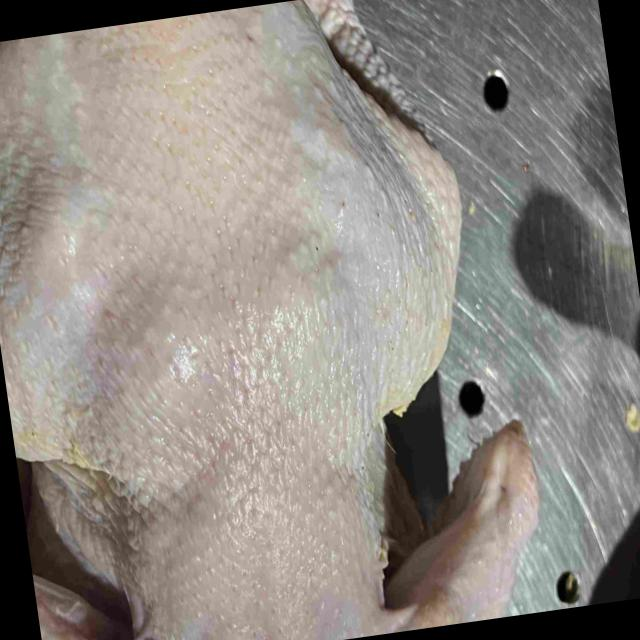back: (0, 2, 399, 640)
leg: (296, 0, 465, 405), (0, 122, 79, 460)
wing: (378, 420, 533, 635), (33, 579, 160, 640)
